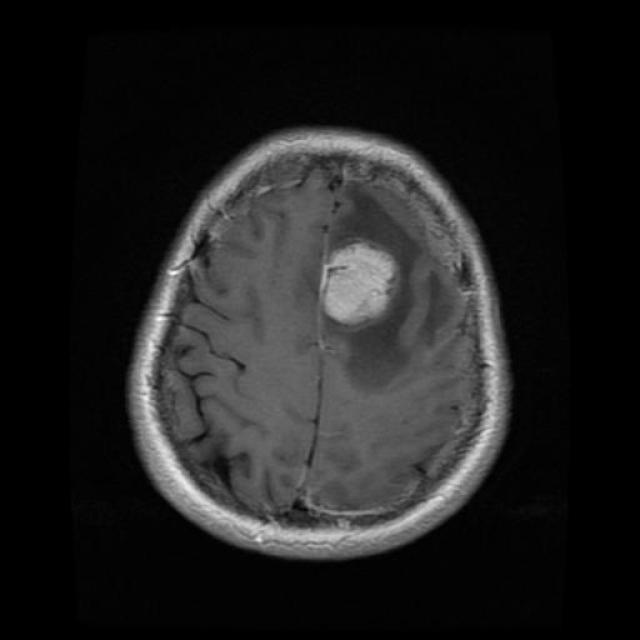Brain-Tumor: (319, 221, 453, 367)
